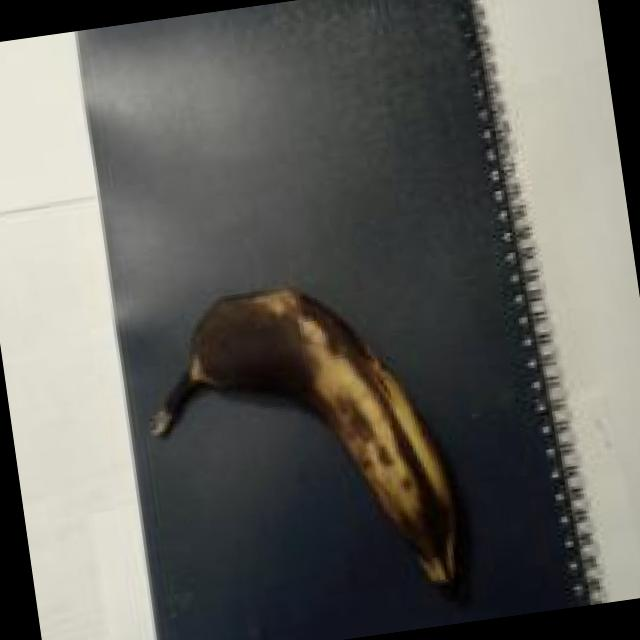Rotten_Banana: (120, 253, 413, 488), (312, 248, 474, 600)
